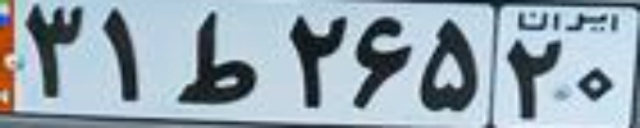0: (571, 66, 619, 101)
1: (97, 5, 141, 102)
2: (289, 13, 341, 109), (504, 36, 561, 119)
3: (24, 3, 85, 98)
5: (416, 16, 481, 112)
6: (353, 14, 413, 109)
taa: (176, 9, 258, 105)
